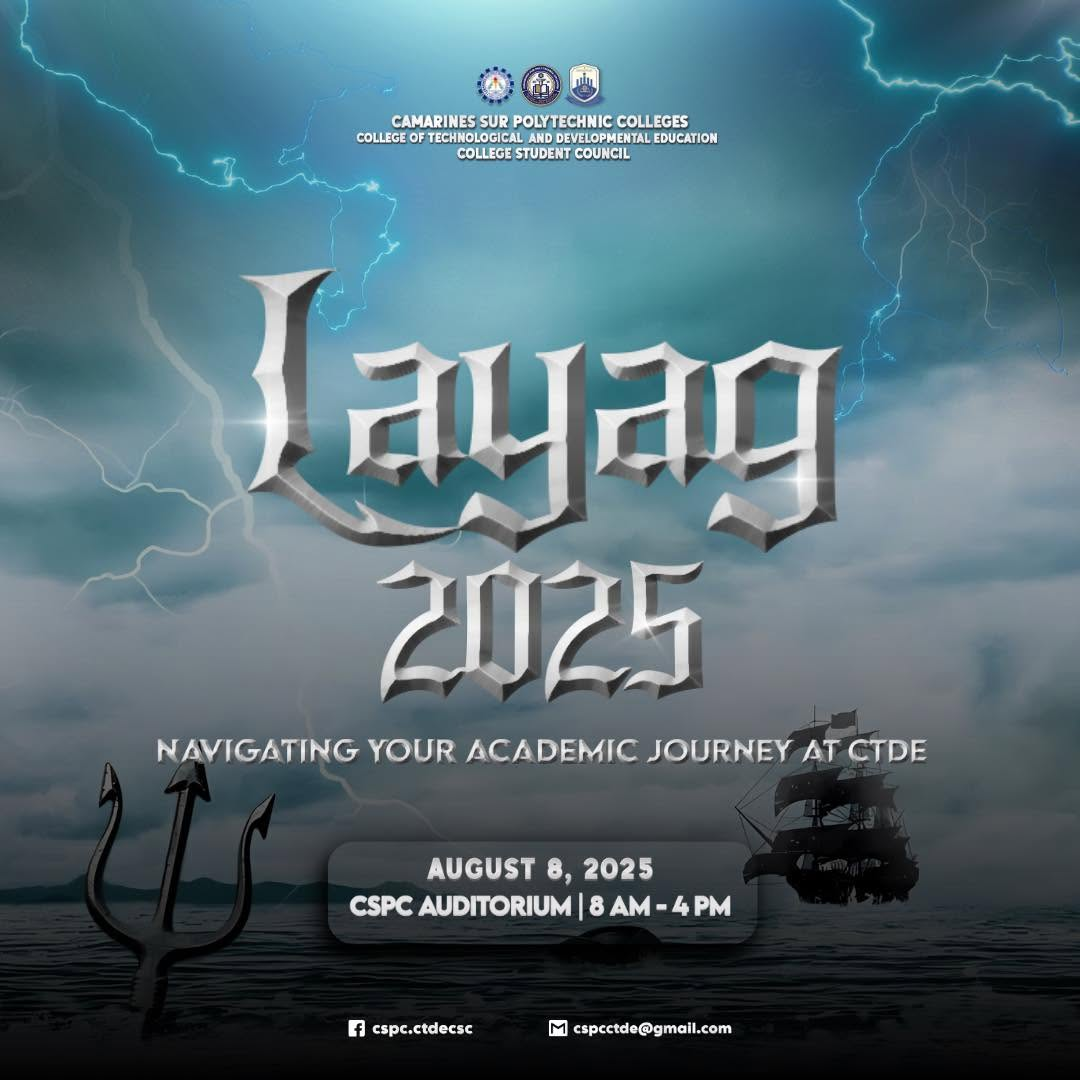embellishment: (84, 761, 275, 1013), (734, 706, 921, 905), (347, 1020, 366, 1037), (549, 1020, 568, 1037)
logo: (522, 63, 563, 106), (477, 65, 515, 106), (568, 63, 602, 104)
text: (237, 269, 843, 563), (379, 557, 702, 712), (157, 738, 927, 762), (357, 113, 718, 161), (349, 891, 730, 921), (426, 858, 652, 883), (574, 1019, 732, 1037), (372, 1021, 474, 1037)
underlay: (327, 841, 757, 944)
